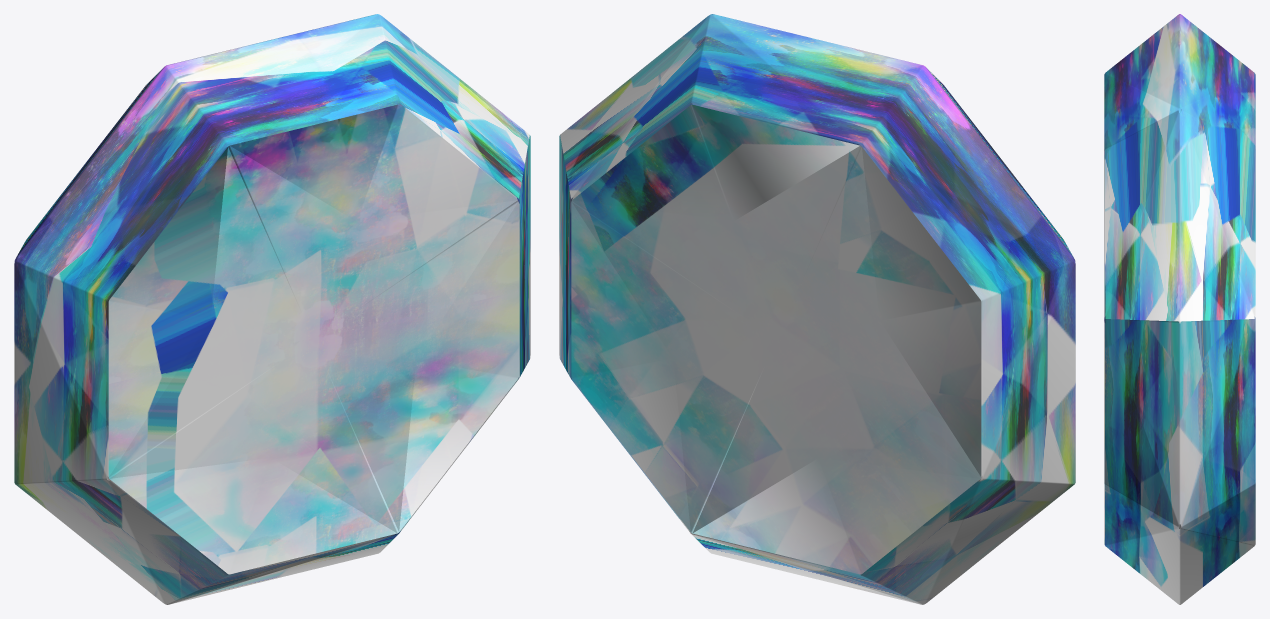
Rendered from Jewelry Type 5.glb.
The picture shows the model from 3 angles, left to right: view 1: azimuth 30°, elevation 25°; view 2: azimuth 150°, elevation 25°; view 3: azimuth 270°, elevation 25°; orthographic projection. The views are drawn at different scales.
Parts seen in each view (by area): view 1: Jewelry005_M_Jewelry001_0; view 2: Jewelry005_M_Jewelry001_0; view 3: Jewelry005_M_Jewelry001_0.
Part boxes in pixels (x1,y1,x2,y2): Jewelry005_M_Jewelry001_0: [14, 14, 530, 604]; Jewelry005_M_Jewelry001_0: [559, 14, 1075, 604]; Jewelry005_M_Jewelry001_0: [1104, 14, 1255, 604].
Bounding box in the file's own units: 1.15 × 1.15 × 0.3184.
Materials: 1 (1 with a texture image).
